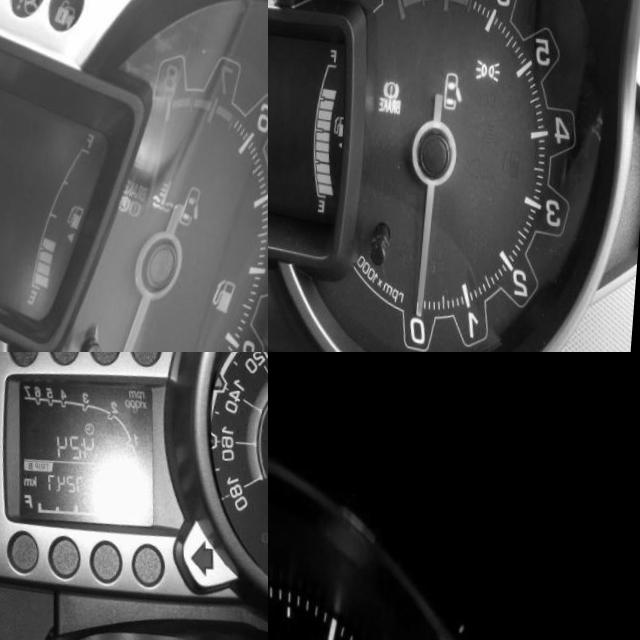Doors: (185, 167, 215, 216), (448, 57, 469, 98)
Engine cooling system: (156, 159, 188, 200)
Low fuel level: (218, 258, 247, 300)
SideLamp: (480, 42, 508, 69)
